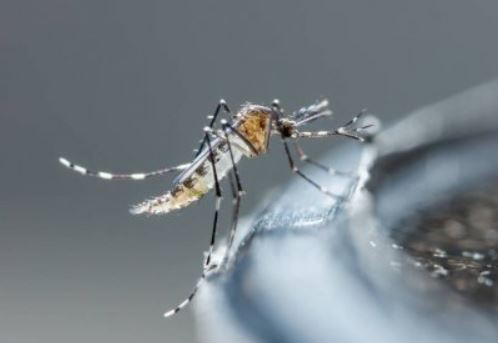dengue_mosquito: (55, 96, 375, 239)
